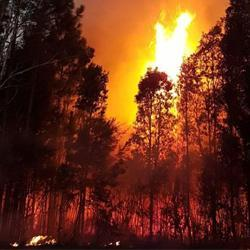fire: (155, 18, 188, 81), (29, 234, 56, 248)
